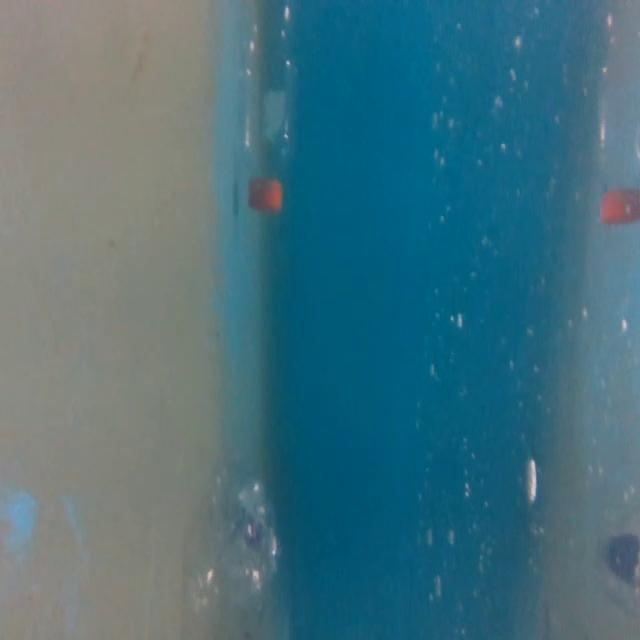plastic bags: (187, 464, 274, 613)
plastic bottle: (236, 4, 306, 218)
